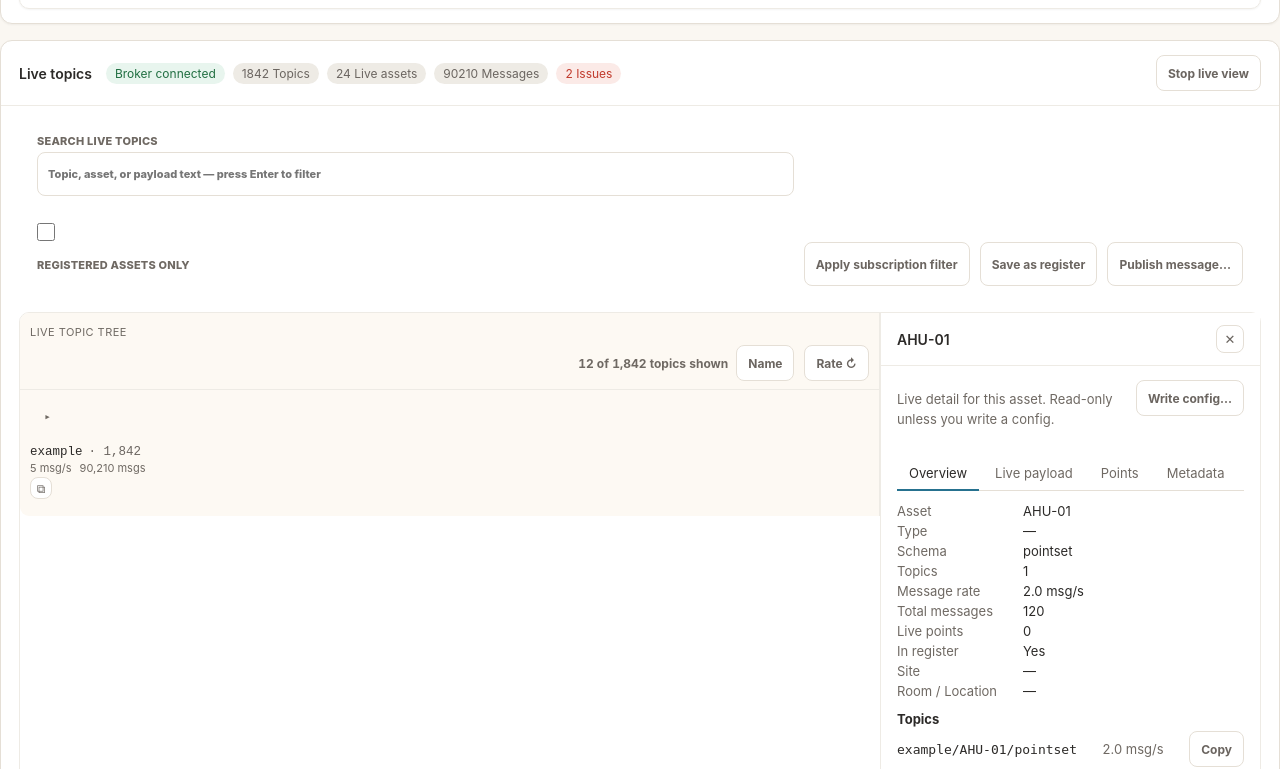
Test: MqttScannerPage › opens the publish modal prefilled from Write config
(page scrolled)
Click the button "Write config…": (1190, 398) [1136,380,1244,416]
(page scrolled)
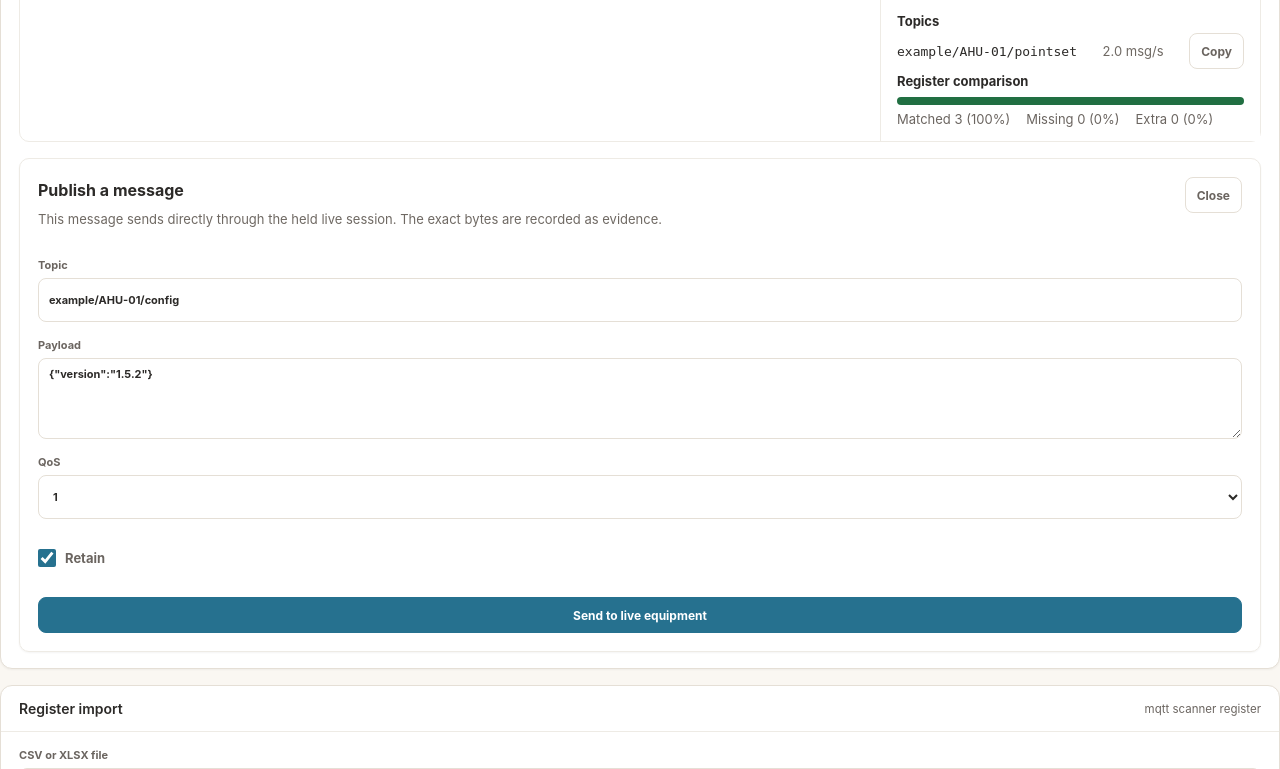
Check: the field labelled "Topic" holds "example/AHU-01/config", box [38,278,1242,322]
Check: the text box labelled "Payload" holds "{\"version\":\"1.5.2\"}", box [38,358,1242,439]
